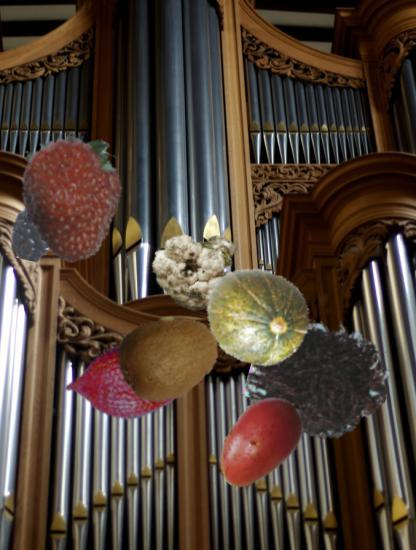Cauliflower: (153, 222, 250, 319)
Kiwi: (117, 306, 222, 411)
Melon: (204, 261, 316, 373)
Mulberry: (5, 193, 74, 262)
Potato: (208, 390, 312, 494)
Rambutan: (251, 305, 391, 445)
Salak: (64, 313, 202, 451)
Strawberry: (11, 132, 140, 261)
